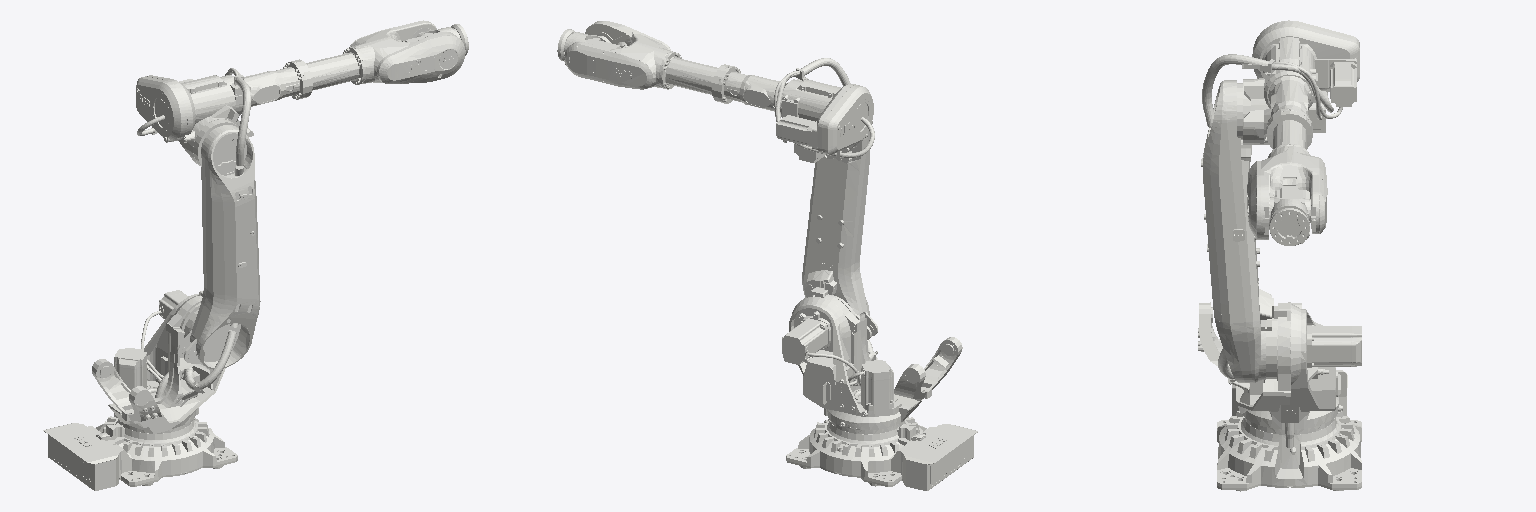
URDF robot description (abb_irb6700_150_320):
<?xml version="1.0" ?>
<!-- =================================================================================== -->
<!-- |    This document was autogenerated by xacro from irb6700_150_320.xacro          | -->
<!-- |    EDITING THIS FILE BY HAND IS NOT RECOMMENDED                                 | -->
<!-- =================================================================================== -->
<robot name="abb_irb6700_150_320">
  <transform tf_rb_ub="0.0 0.0 0.0 0.0 0.0 0.0 1.0" tf_rf_uf="0.0 0.0 0.0 0.0 0.0 0.0 1.0">
  </transform>
  <constraint coeff="0.0 0.0 0.0 1.0 0.0 0.0" lower_bound="0.0" upper_bound="0.0"/>
  <constraint coeff="0.0 1.0 1.0 0.0 1.0 0.0" lower_bound="1.5707963267948966" upper_bound="1.5707963267948966"/>
  <!-- Conversion were obtained from http://www.e-paint.co.uk/Lab_values.asp
       unless otherwise stated. -->
  <!-- link list -->
  <link name="base_link">
    <visual>
      <origin rpy="0 0 0" xyz="0 0 0"/>
      <geometry>
        <mesh filename="package://abb_irb6700_support/meshes/irb6700_150_320/visual/base_link.stl"/>
      </geometry>
      <material name="">
        <color rgba="0.9254902 0.9254902 0.9058824 1"/>
      </material>
    </visual>
    <collision>
      <origin rpy="0 0 0" xyz="0 0 0"/>
      <geometry>
        <mesh filename="package://abb_irb6700_support/meshes/irb6700_150_320/collision/base_link.stl"/>
      </geometry>
      <material name="">
        <color rgba="1 1 0 1"/>
      </material>
    </collision>
  </link>
  <link name="link_1">
    <visual>
      <origin rpy="0 0 0" xyz="0 0 0"/>
      <geometry>
        <mesh filename="package://abb_irb6700_support/meshes/irb6700_150_320/visual/link_1.stl"/>
      </geometry>
      <material name="">
        <color rgba="0.9254902 0.9254902 0.9058824 1"/>
      </material>
    </visual>
    <collision>
      <origin rpy="0 0 0" xyz="0 0 0"/>
      <geometry>
        <mesh filename="package://abb_irb6700_support/meshes/irb6700_150_320/collision/link_1.stl"/>
      </geometry>
      <material name="">
        <color rgba="1 1 0 1"/>
      </material>
    </collision>
  </link>
  <link name="link_2">
    <visual>
      <origin rpy="0 0 0" xyz="0 0 0"/>
      <geometry>
        <mesh filename="package://abb_irb6700_support/meshes/irb6700_150_320/visual/link_2.stl"/>
      </geometry>
      <material name="">
        <color rgba="0.9254902 0.9254902 0.9058824 1"/>
      </material>
    </visual>
    <collision>
      <origin rpy="0 0 0" xyz="0 0 0"/>
      <geometry>
        <mesh filename="package://abb_irb6700_support/meshes/irb6700_150_320/collision/link_2.stl"/>
      </geometry>
      <material name="">
        <color rgba="1 1 0 1"/>
      </material>
    </collision>
  </link>
  <link name="link_3">
    <visual>
      <origin rpy="0 0 0" xyz="0 0 0"/>
      <geometry>
        <mesh filename="package://abb_irb6700_support/meshes/irb6700_150_320/visual/link_3.stl"/>
      </geometry>
      <material name="">
        <color rgba="0.9254902 0.9254902 0.9058824 1"/>
      </material>
    </visual>
    <collision>
      <origin rpy="0 0 0" xyz="0 0 0"/>
      <geometry>
        <mesh filename="package://abb_irb6700_support/meshes/irb6700_150_320/collision/link_3.stl"/>
      </geometry>
      <material name="">
        <color rgba="1 1 0 1"/>
      </material>
    </collision>
  </link>
  <link name="link_4">
    <visual>
      <origin rpy="0 0 0" xyz="0 0 0"/>
      <geometry>
        <mesh filename="package://abb_irb6700_support/meshes/irb6700_150_320/visual/link_4.stl"/>
      </geometry>
      <material name="">
        <color rgba="0.9254902 0.9254902 0.9058824 1"/>
      </material>
    </visual>
    <collision>
      <origin rpy="0 0 0" xyz="0 0 0"/>
      <geometry>
        <mesh filename="package://abb_irb6700_support/meshes/irb6700_150_320/collision/link_4.stl"/>
      </geometry>
      <material name="">
        <color rgba="1 1 0 1"/>
      </material>
    </collision>
  </link>
  <link name="link_5">
    <visual>
      <origin rpy="0 0 0" xyz="0 0 0"/>
      <geometry>
        <mesh filename="package://abb_irb6700_support/meshes/irb6700_150_320/visual/link_5.stl"/>
      </geometry>
      <material name="">
        <color rgba="0.9254902 0.9254902 0.9058824 1"/>
      </material>
    </visual>
    <collision>
      <origin rpy="0 0 0" xyz="0 0 0"/>
      <geometry>
        <mesh filename="package://abb_irb6700_support/meshes/irb6700_150_320/collision/link_5.stl"/>
      </geometry>
      <material name="">
        <color rgba="1 1 0 1"/>
      </material>
    </collision>
  </link>
  <link name="link_6">
    <visual>
      <origin rpy="0 -1.5707963267948966 0" xyz="0 0 0"/>
      <geometry>
        <mesh filename="package://abb_irb6700_support/meshes/irb6700_150_320/visual/link_6.stl"/>
      </geometry>
      <material name="">
        <color rgba="0.9254902 0.9254902 0.9058824 1"/>
      </material>
    </visual>
    <collision>
      <origin rpy="0 -1.5707963267948966 0" xyz="0 0 0"/>
      <geometry>
        <mesh filename="package://abb_irb6700_support/meshes/irb6700_150_320/collision/link_6.stl"/>
      </geometry>
      <material name="">
        <color rgba="1 1 0 1"/>
      </material>
    </collision>
  </link>
  <joint name="joint1" type="revolute">
    <origin rpy="0 0 0" xyz="0 0 0.78"/>
    <parent link="base_link"/>
    <child link="link_1"/>
    <axis xyz="0 0 1"/>
    <limit effort="0" lower="-2.9670597283903604" upper="2.9670597283903604" velocity="1.7453292519943295"/>
  </joint>
  <joint name="joint2" type="revolute">
    <origin rpy="0 0 0" xyz="0.32 0 0"/>
    <parent link="link_1"/>
    <child link="link_2"/>
    <axis xyz="0 1 0"/>
    <limit effort="0" lower="-1.1344640137963142" upper="1.4835298641951802" velocity="1.5707963267948966"/>
  </joint>
  <joint name="joint3" type="revolute">
    <origin rpy="0 0 0" xyz="0 0 1.280"/>
    <parent link="link_2"/>
    <child link="link_3"/>
    <axis xyz="0 1 0"/>
    <limit effort="0" lower="-3.141592653589793" upper="1.2042771838760873" velocity="1.5707963267948966"/>
  </joint>
  <joint name="joint4" type="revolute">
    <origin rpy="0 0 0" xyz="0 0 0.2"/>
    <parent link="link_3"/>
    <child link="link_4"/>
    <axis xyz="1 0 0"/>
    <limit effort="0" lower="-5.235987755982989" upper="5.235987755982989" velocity="2.9670597283903604"/>
  </joint>
  <joint name="joint5" type="revolute">
    <origin rpy="0 0 0" xyz="1.5925 0 0"/>
    <parent link="link_4"/>
    <child link="link_5"/>
    <axis xyz="0 1 0"/>
    <limit effort="0" lower="-2.2689280275926285" upper="2.2689280275926285" velocity="2.0943951023931953"/>
  </joint>
  <joint name="joint6" type="revolute">
    <origin rpy="0 1.5707963267948966 0" xyz="0.2 0 0"/>
    <parent link="link_5"/>
    <child link="link_6"/>
    <axis xyz="0 0 1"/>
    <limit effort="0" lower="-6.283185307179586" upper="6.283185307179586" velocity="3.3161255787892263"/>
  </joint>
</robot>

--- Facts derived from the render (not from the file) ---
The picture shows the robot from 3 angles, left to right: view 1: azimuth 30°, elevation 25°; view 2: azimuth 150°, elevation 25°; view 3: azimuth 270°, elevation 25°; orthographic projection.
Model abb_irb6700_150_320 with 7 links and 6 joints (6 revolute), rooted at base_link, posed every joint at zero.
Links seen in each view (by area): view 1: link_2, link_1, base_link, link_4, link_3; view 2: link_1, base_link, link_4, link_2, link_3; view 3: link_2, link_1, link_3, base_link, link_4, link_6, link_5.
Boxes of the visible links, x1=… form: link_2: x1=177, y1=125, x2=260, y2=368; link_1: x1=92, y1=290, x2=236, y2=433; base_link: x1=43, y1=413, x2=237, y2=490; link_4: x1=155, y1=20, x2=465, y2=126; link_3: x1=136, y1=68, x2=253, y2=166; link_1: x1=782, y1=287, x2=962, y2=429; base_link: x1=786, y1=416, x2=977, y2=490; link_4: x1=564, y1=21, x2=867, y2=130; link_2: x1=802, y1=121, x2=877, y2=339; link_3: x1=774, y1=58, x2=874, y2=162; link_2: x1=1201, y1=80, x2=1273, y2=382; link_1: x1=1198, y1=302, x2=1361, y2=447; link_3: x1=1202, y1=20, x2=1359, y2=144; base_link: x1=1217, y1=370, x2=1361, y2=491; link_4: x1=1247, y1=76, x2=1327, y2=239; link_6: x1=1269, y1=208, x2=1309, y2=245; link_5: x1=1270, y1=186, x2=1309, y2=243.
Bounding box of the posed robot: 2.74 × 0.816 × 2.44 m (x, y, z).
Meshes: 7 distinct files referenced, 7 mesh visuals loaded (7 binary STL).